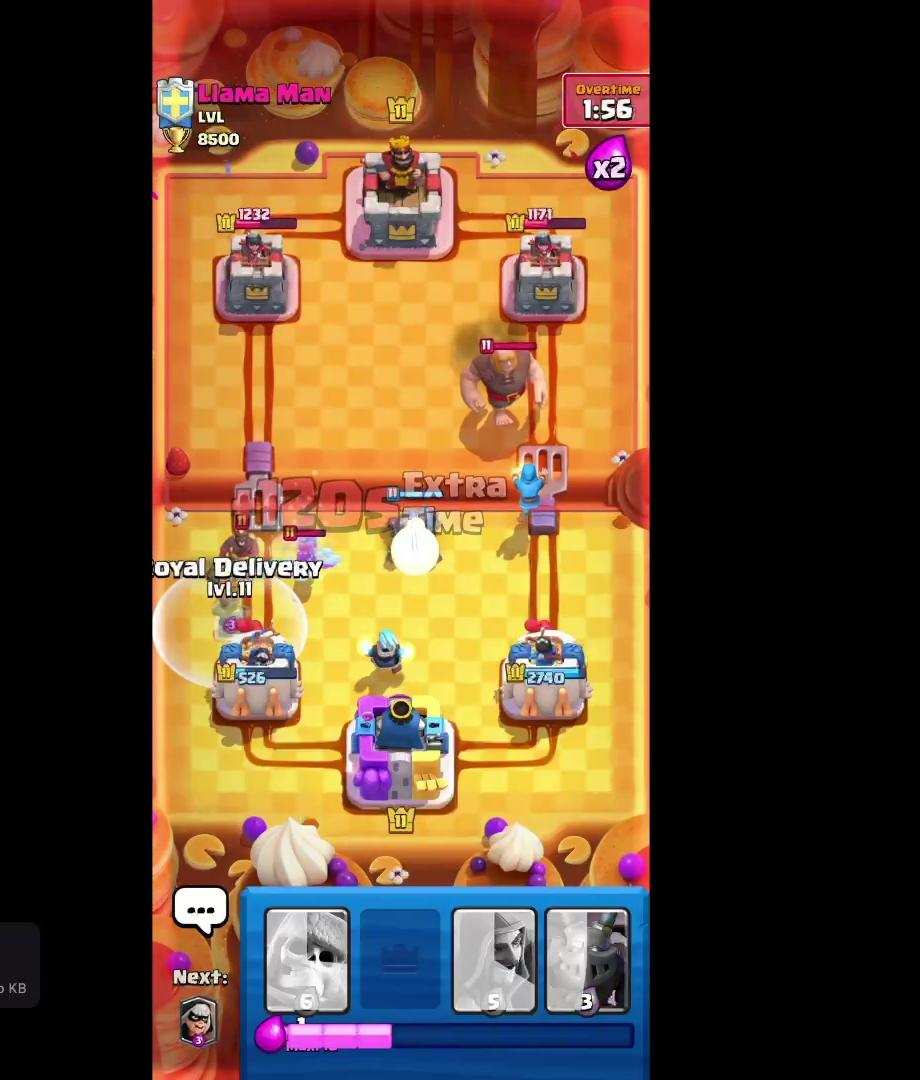Giant: (460, 338, 556, 433)
